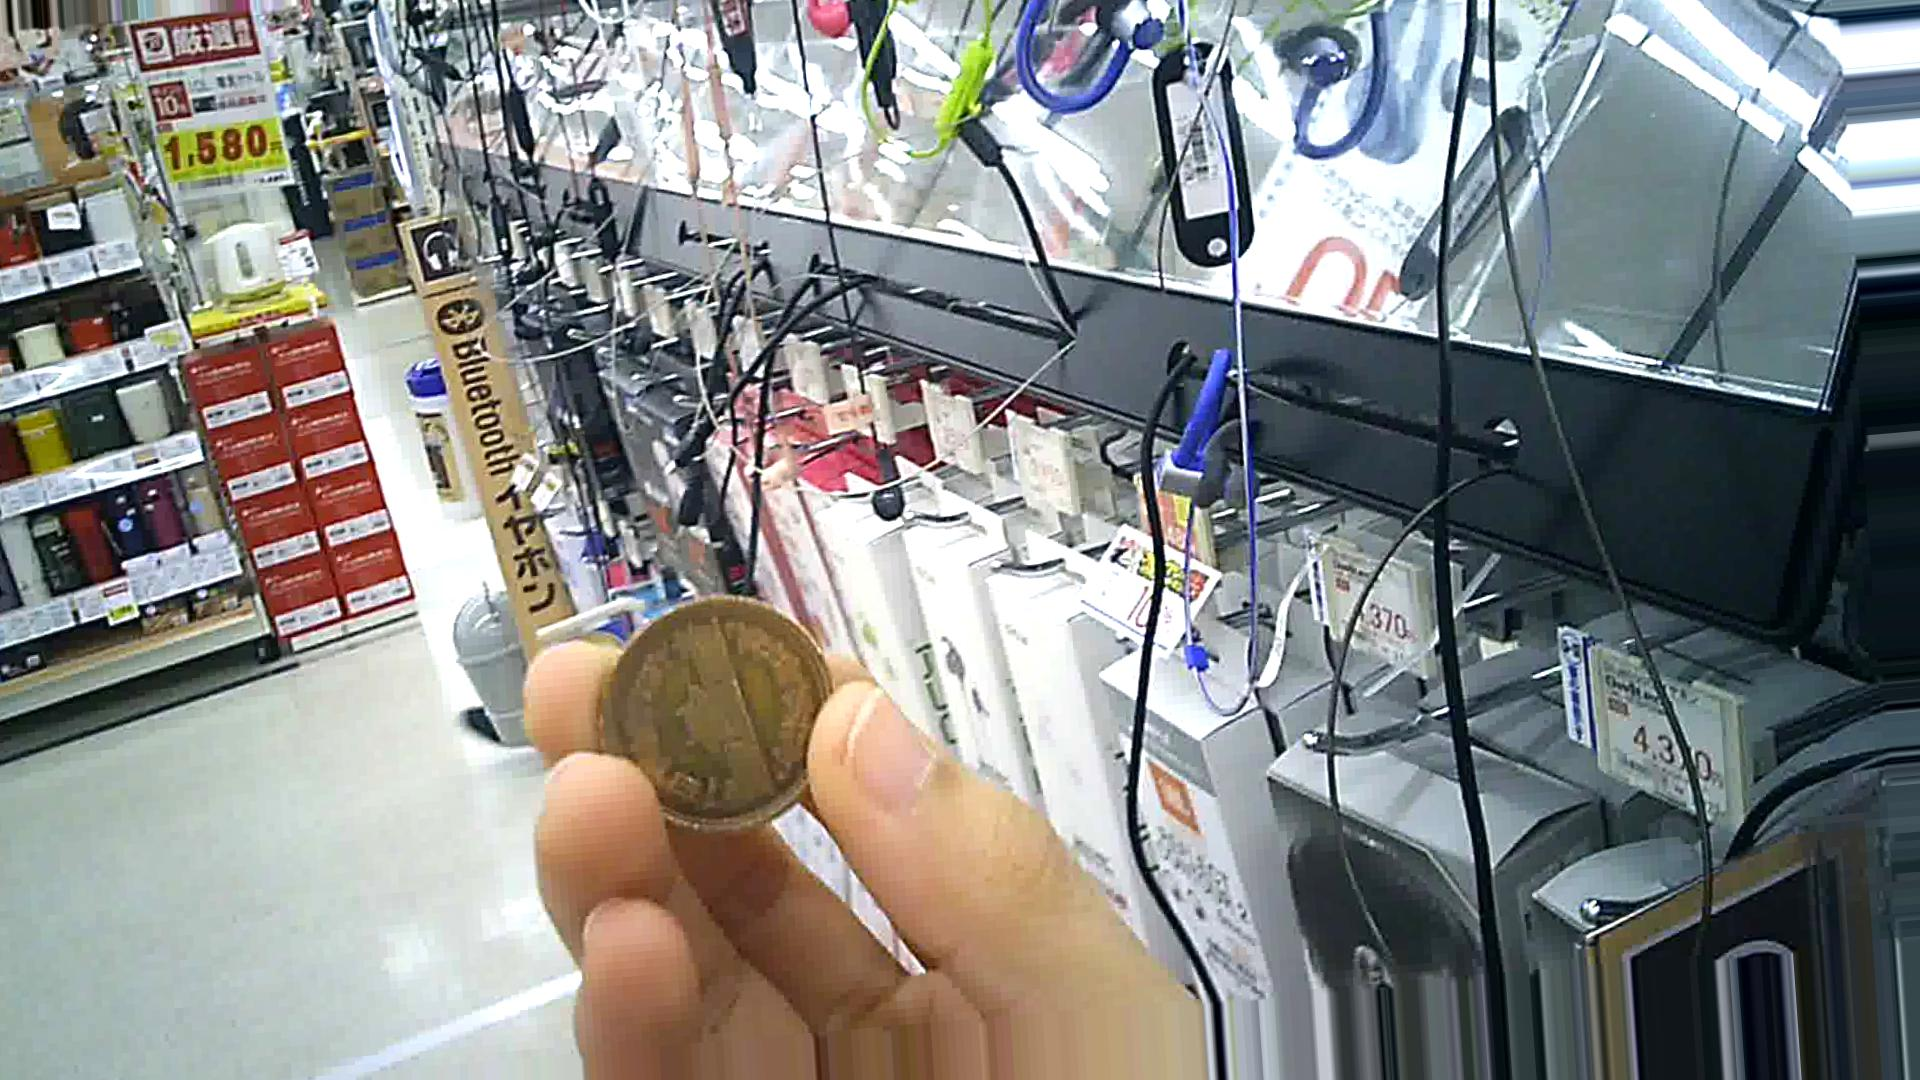10 Yen: (559, 589, 841, 843)
